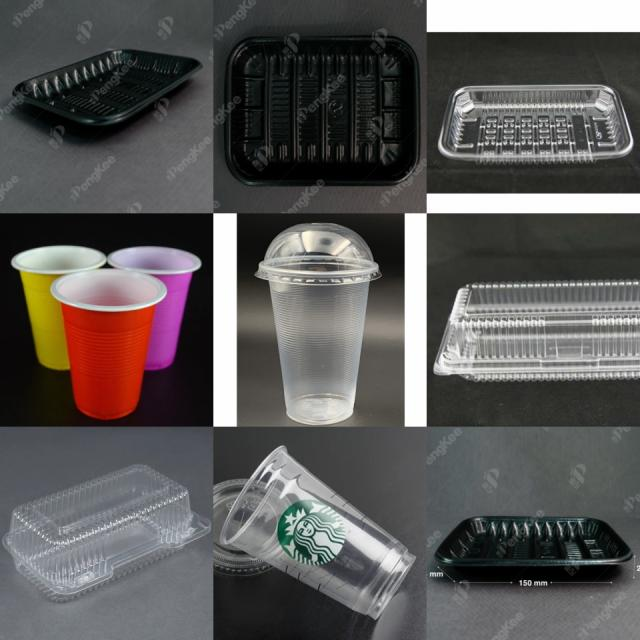Single-Use-Plastic: (220, 446, 415, 619), (225, 31, 420, 185), (2, 464, 210, 601), (255, 222, 381, 425), (434, 280, 640, 381), (51, 269, 166, 418), (438, 85, 632, 164), (12, 50, 201, 126), (435, 516, 632, 586), (11, 245, 106, 369), (108, 246, 201, 370), (213, 478, 302, 576)
